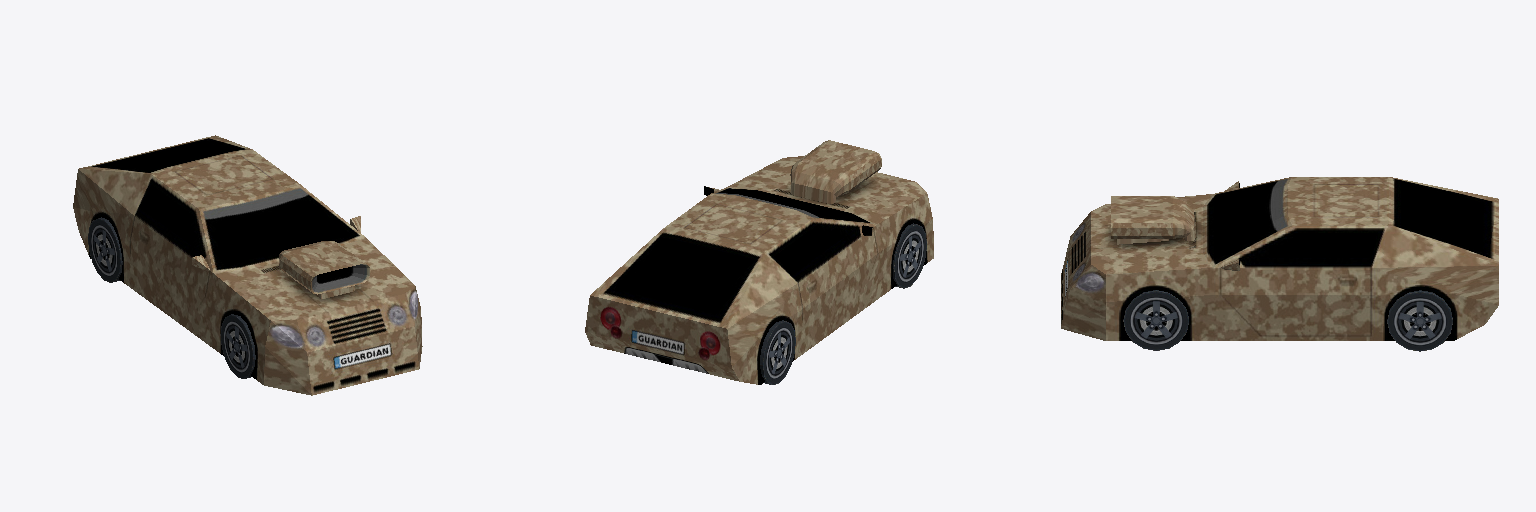
3 renders of one model, left to right at view 1: azimuth 30°, elevation 25°; view 2: azimuth 150°, elevation 25°; view 3: azimuth 270°, elevation 25°, orthographic.
Parts seen in each view (by area): view 1: car; view 2: car; view 3: car.
Part boxes in pixels (x1,y1,x2,y2): car: (73,135,422,395); car: (585,140,933,384); car: (1061,177,1498,351).
Size of the model in its own units: 1.99 by 1.27 by 4.49.
Materials: 1 (1 with a texture image).